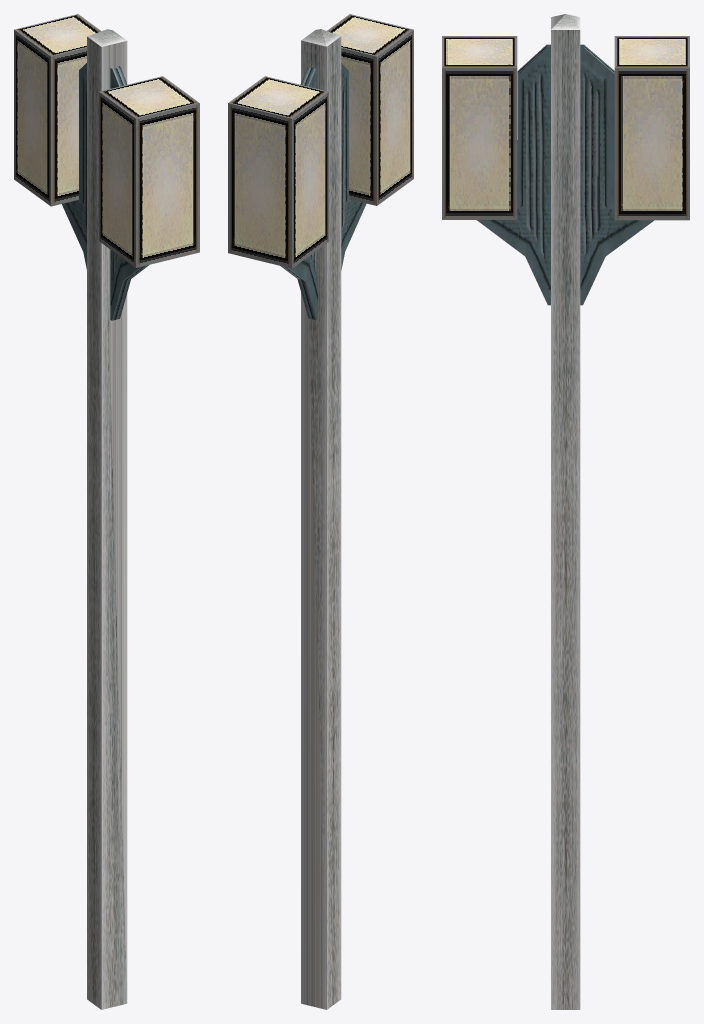
Rendered from frn_all_streetlamp_lg_s2_l0.fbx.
3 renders of one model, left to right at view 1: azimuth 30°, elevation 25°; view 2: azimuth 150°, elevation 25°; view 3: azimuth 270°, elevation 25°, orthographic.
Visible parts, largest first — view 1: mesh_node; view 2: mesh_node; view 3: mesh_node.
Part boxes in pixels (x1=…): mesh_node: x1=14, y1=14, x2=199, y2=1009; mesh_node: x1=228, y1=14, x2=413, y2=1009; mesh_node: x1=442, y1=14, x2=689, y2=1009.
Bounding box in the file's own units: 0.2906 × 4.22 × 0.958.
